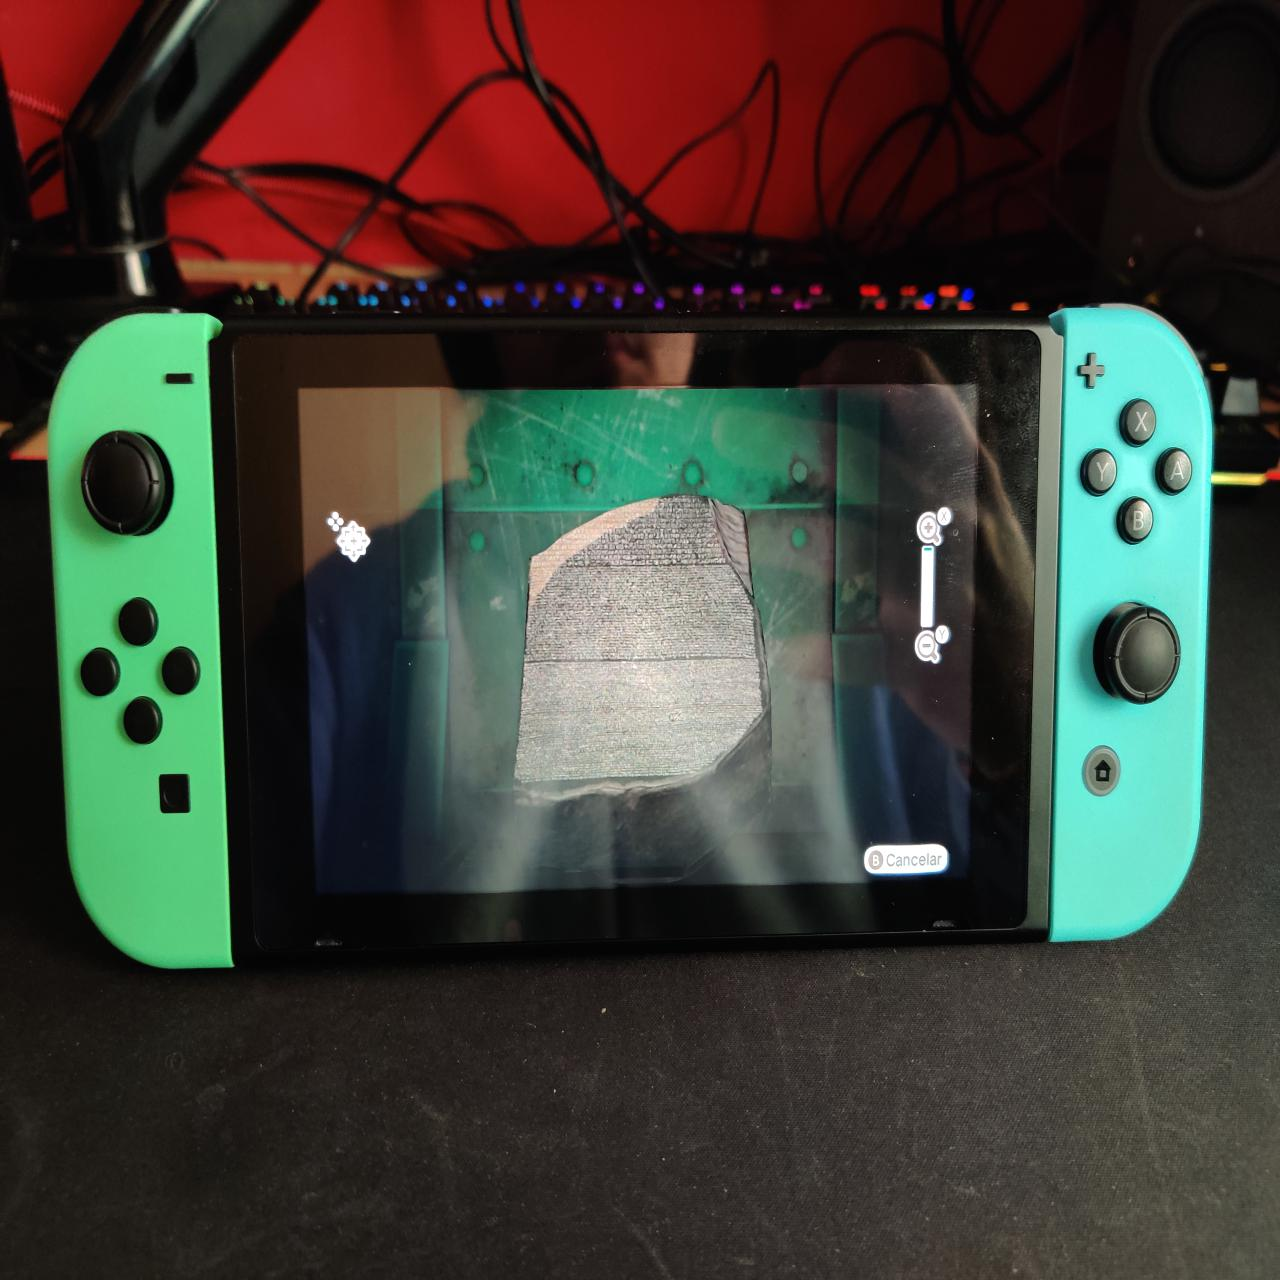RosettaStone: (511, 476, 783, 866)
